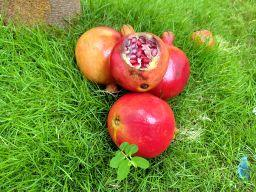pomegranate: (107, 94, 176, 157), (111, 24, 169, 91), (75, 26, 125, 91), (147, 30, 190, 99)
